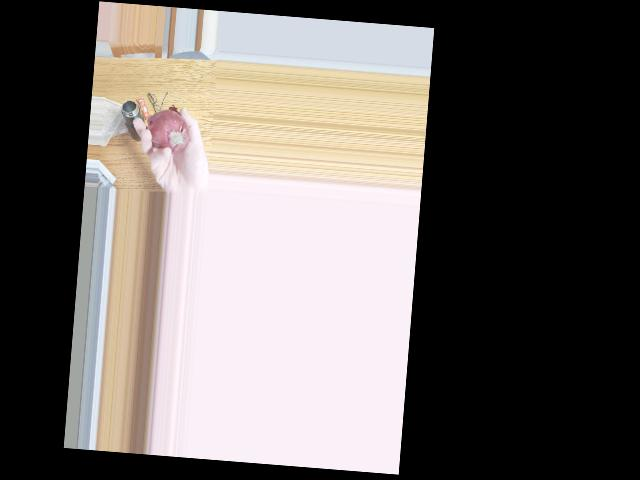onion: (149, 112, 190, 154)
